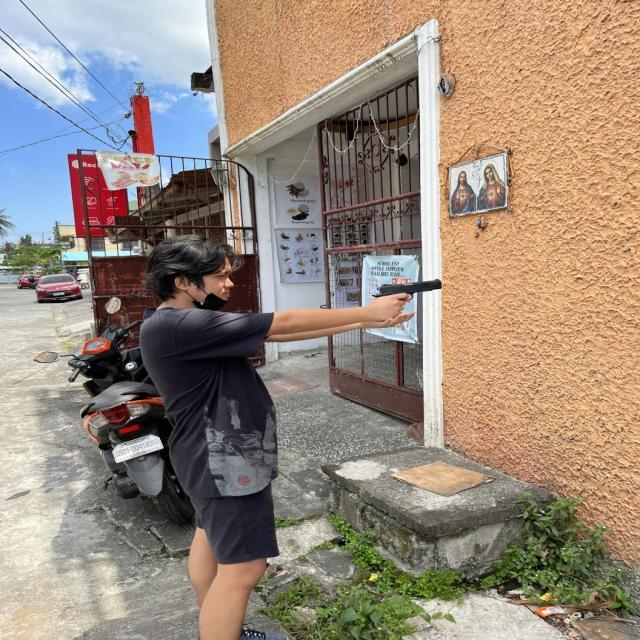pistol: (370, 259, 454, 319)
